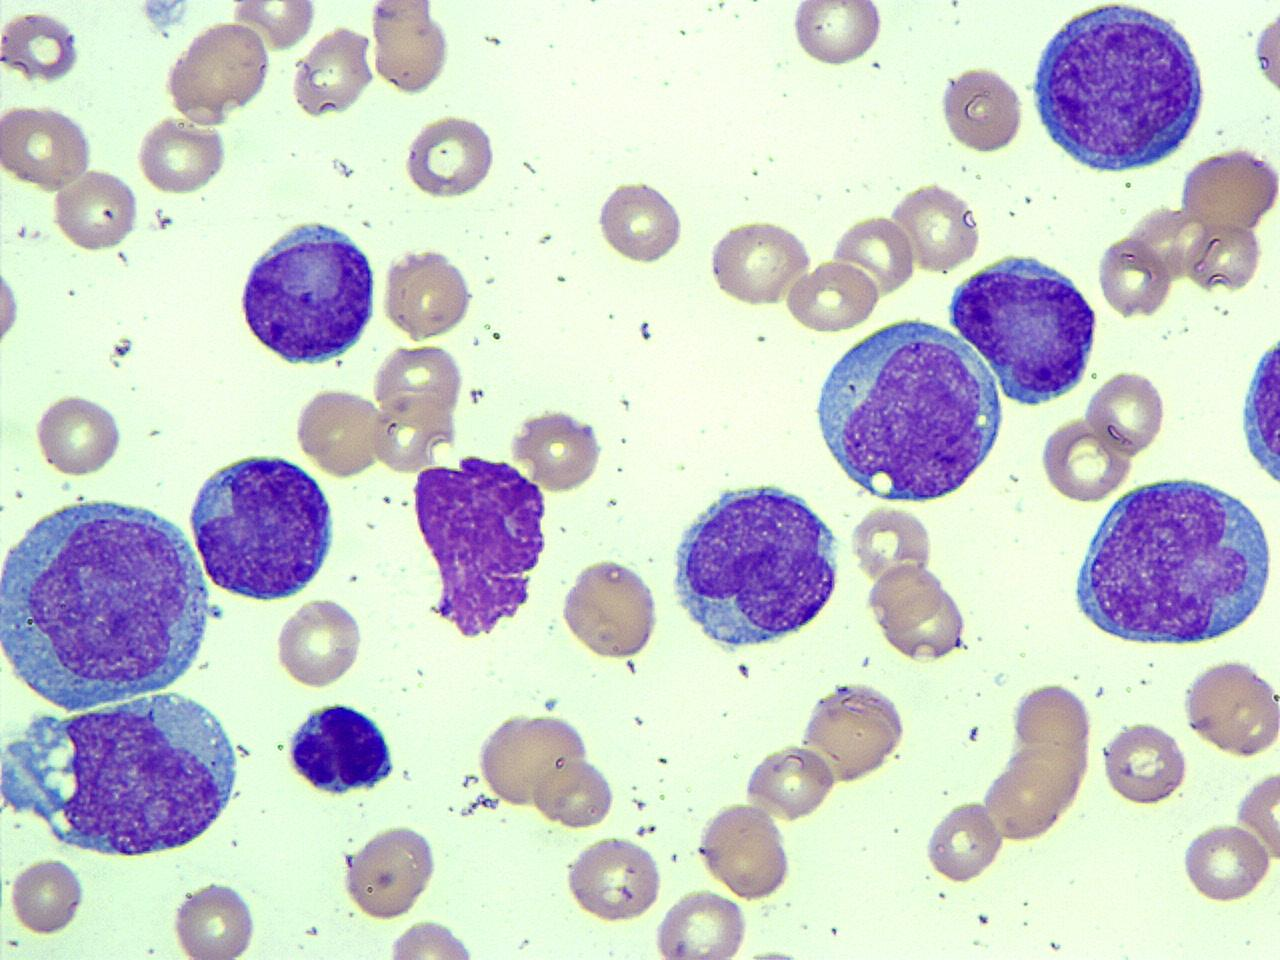Platelets: (136, 1, 191, 32), (740, 942, 804, 960), (112, 338, 133, 356), (540, 696, 561, 714), (734, 659, 750, 677)
RBC: (165, 20, 273, 126), (475, 708, 587, 810), (558, 556, 662, 662), (800, 686, 906, 784), (703, 218, 815, 308), (1180, 656, 1280, 756), (695, 800, 793, 899), (341, 822, 440, 920), (376, 246, 475, 342), (564, 832, 665, 926), (291, 383, 386, 478), (887, 181, 984, 273), (273, 595, 366, 691), (1177, 145, 1279, 232), (402, 110, 498, 202), (506, 406, 606, 494), (594, 174, 687, 266), (936, 61, 1027, 155), (0, 100, 96, 190), (366, 0, 454, 98), (31, 389, 125, 479), (1039, 414, 1133, 503), (373, 340, 466, 428), (289, 24, 375, 119), (50, 167, 141, 254), (1179, 820, 1273, 904), (1100, 720, 1190, 806), (742, 742, 838, 822), (134, 116, 231, 195), (833, 210, 916, 301), (1084, 367, 1168, 458), (170, 875, 259, 960), (847, 502, 935, 586), (652, 884, 750, 960), (4, 852, 87, 940), (784, 259, 883, 332), (1009, 679, 1093, 763), (925, 798, 1005, 885), (878, 587, 969, 662), (1096, 233, 1172, 319), (532, 754, 616, 832), (788, 0, 884, 68), (0, 6, 82, 85), (1181, 220, 1265, 293), (864, 562, 946, 624), (1232, 766, 1280, 870), (229, 0, 318, 53), (382, 916, 479, 958), (1251, 1, 1279, 106), (0, 250, 24, 359)
WBC: (0, 491, 216, 714), (0, 678, 247, 864), (809, 310, 1010, 505), (1067, 468, 1279, 650), (1023, 0, 1211, 178), (668, 475, 846, 656), (408, 448, 554, 640), (942, 248, 1103, 406), (183, 445, 340, 604), (236, 216, 381, 368), (283, 696, 400, 796), (1237, 320, 1280, 496)
